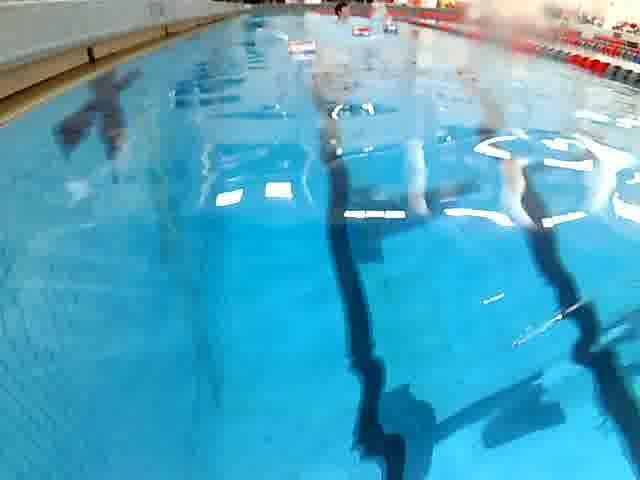Can: (274, 32, 326, 61), (377, 22, 402, 40), (352, 21, 374, 41)
